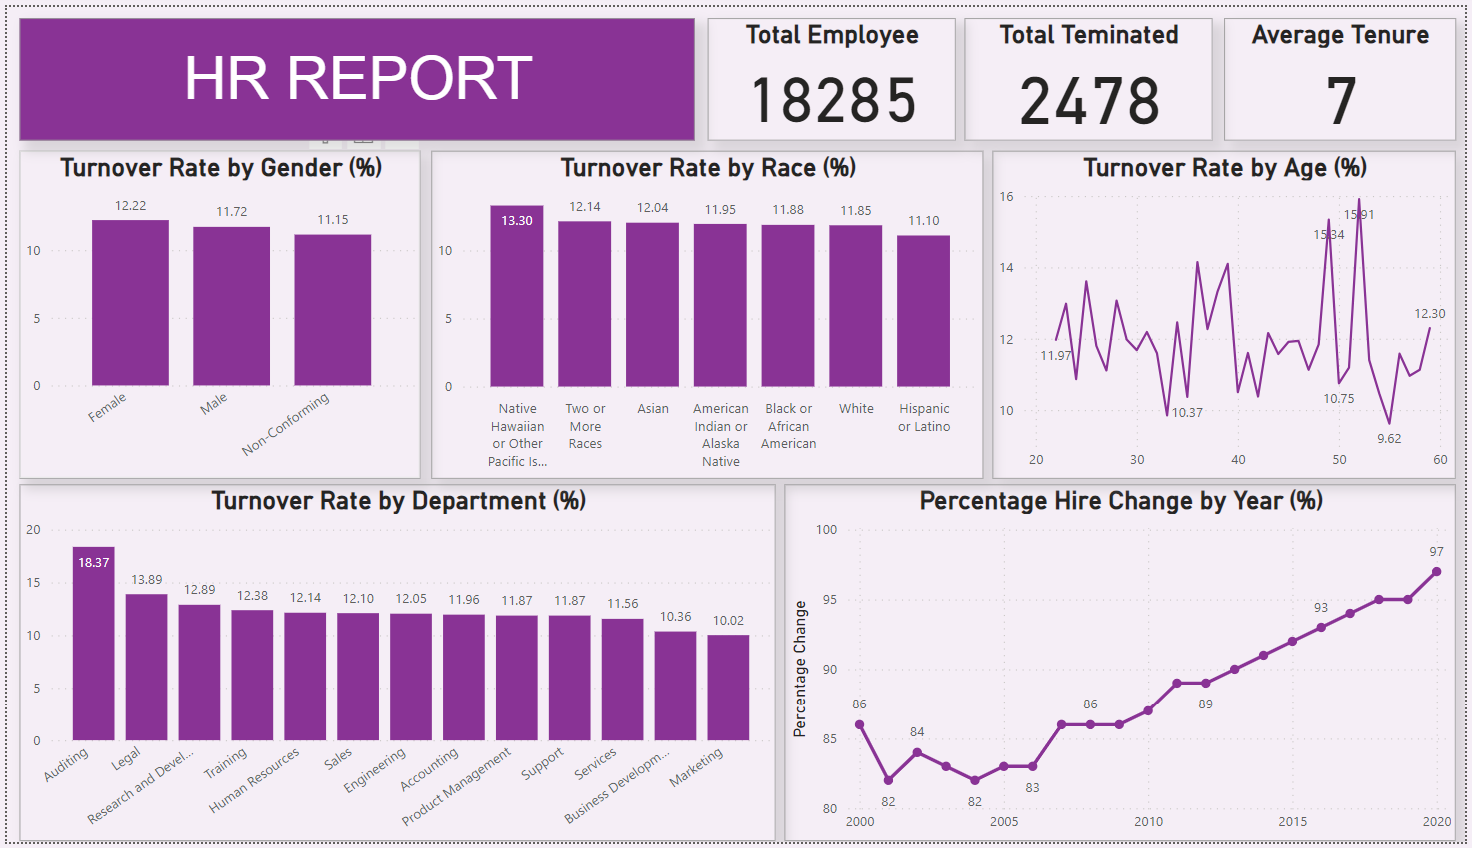

The dashboard page shown, as its layout file describes it:
{"tool":"powerbi","page":{"name":"Page 2","canvas":[1306,748],"ordinal":1},"visuals":[{"type":"card","title":"Average Tenure","fields":{"Values":["Sum(tenure.Column1)"]},"box":[1090,10,207.5,109.3],"z":0},{"type":"columnChart","title":"Turnover Rate by Gender (%)","fields":{"Category":["Turnover_rate gender.gender"],"Y":["Sum(Turnover_rate gender.Turnover_rate)"]},"box":[11.2,128.3,359.2,293.4],"z":1000},{"type":"columnChart","title":"Turnover Rate by Department (%)","fields":{"Category":["Turnover_rate Department.department"],"Y":["Sum(Turnover_rate Department.Turnover_rate)"]},"box":[11.2,427.3,677.2,320.2],"z":2000},{"type":"lineChart","title":"Percentage Hire Change by Year (%)","fields":{"Category":["hire_change.Hire_year"],"Y":["Sum(hire_change.Percent_hire_change)"]},"box":[696.2,427.3,601.3,320.2],"z":3000},{"type":"lineChart","title":"Turnover Rate by Age (%)","fields":{"Category":["Turnover_rate Age.age"],"Y":["Sum(Turnover_rate Age.Turnover_rate)"]},"box":[882.5,128.3,415,293.4],"z":4000},{"type":"columnChart","title":"Turnover Rate by Race (%)","fields":{"Category":["Turnover_rate race.race"],"Y":["Sum(Turnover_rate race.Turnover_rate)"]},"box":[380.4,128.3,494.2,293.4],"z":5000},{"type":"textbox","box":[11.2,10,604.7,109.3],"z":6000},{"type":"card","title":"Total Teminated","fields":{"Values":["Sum(terminated.Terminate)"]},"box":[857.9,10,222,109.3],"z":6001},{"type":"card","title":"Total Employee","fields":{"Values":["Sum(onsite.Total_onsite)"]},"box":[628.1,10,222,109.3],"z":6002}]}

Visuals, with their boxes in screenshot pixels (x1, y1, x2, y2), scaled from the page's 1306x748 canvas onto the 1472x848 screenshot:
"Average Tenure" card: detection(1229, 11, 1462, 135)
"Turnover Rate by Gender (%)" columnChart: detection(13, 145, 417, 478)
"Turnover Rate by Department (%)" columnChart: detection(13, 484, 776, 847)
"Percentage Hire Change by Year (%)" lineChart: detection(785, 484, 1462, 847)
"Turnover Rate by Age (%)" lineChart: detection(995, 145, 1462, 478)
"Turnover Rate by Race (%)" columnChart: detection(429, 145, 986, 478)
textbox: detection(13, 11, 694, 135)
"Total Teminated" card: detection(967, 11, 1217, 135)
"Total Employee" card: detection(708, 11, 958, 135)
